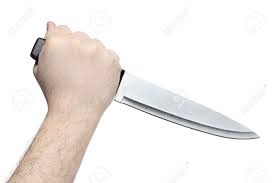knife: (30, 19, 261, 139)
